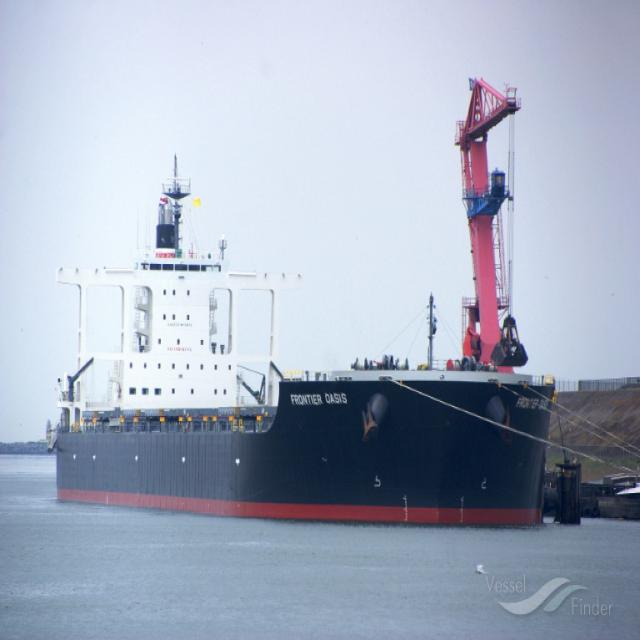OCR: (286, 389, 352, 424)
